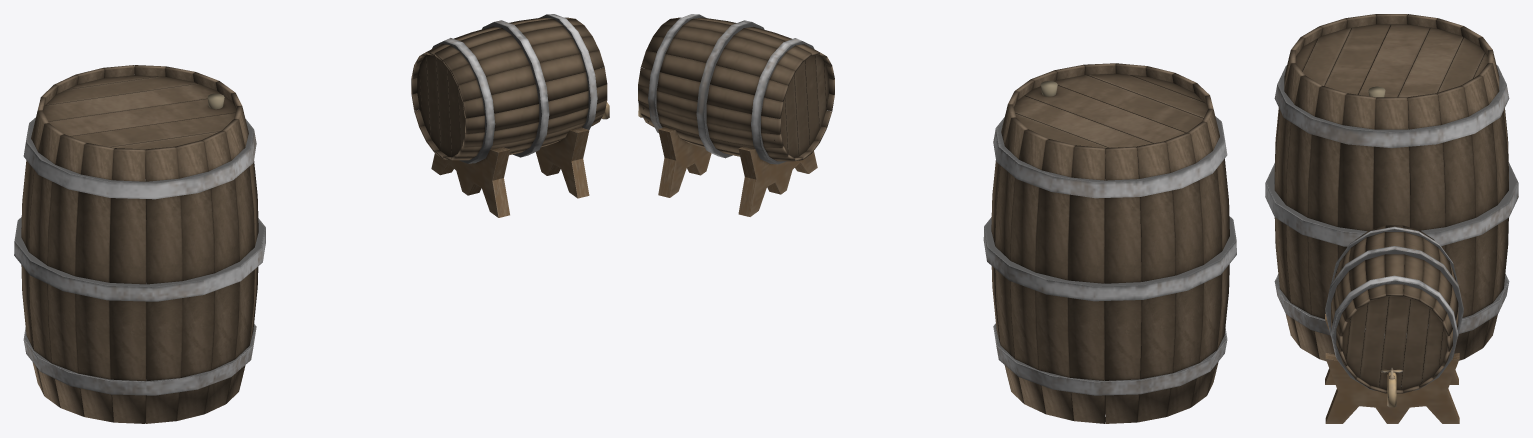
File: Barrel.fbx
3 views of the same model, side by side, from view 1: azimuth 30°, elevation 25°; view 2: azimuth 150°, elevation 25°; view 3: azimuth 270°, elevation 25° (orthographic).
Parts seen in each view (by area): view 1: Cube, Cube.001; view 2: Cube, Cube.001; view 3: Cube, Cube.001.
Part boxes in pixels (bbox=[...]): Cube: bbox=[14, 65, 265, 423]; Cube.001: bbox=[411, 14, 609, 217]; Cube: bbox=[983, 63, 1236, 423]; Cube.001: bbox=[638, 14, 834, 216]; Cube: bbox=[1265, 14, 1518, 361]; Cube.001: bbox=[1325, 225, 1463, 423].
Size of the model in its own units: 1848 by 832 by 703.
Materials: 1 (1 with a texture image).
